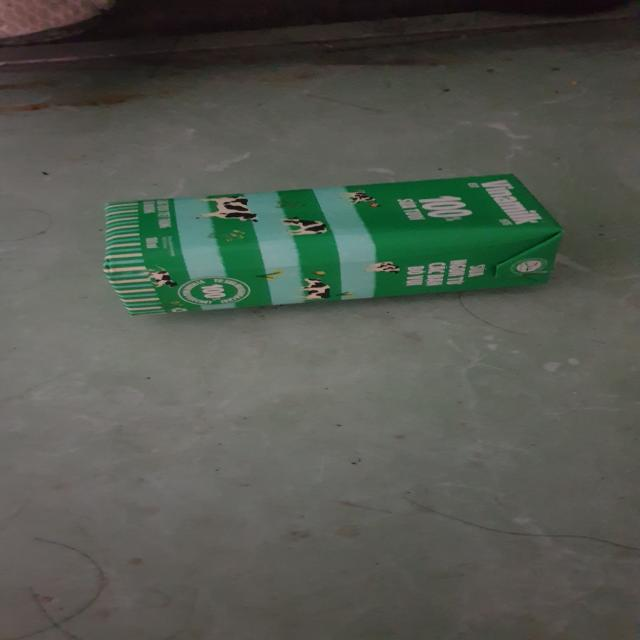Vina: (105, 174, 557, 317)
